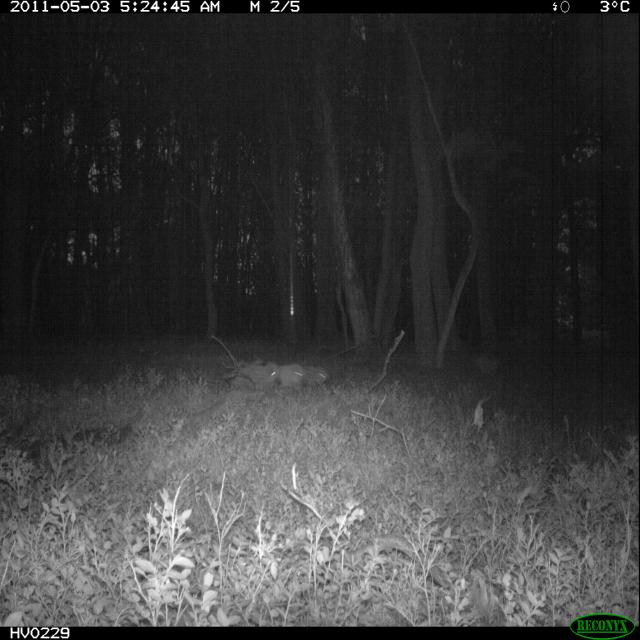boar: (228, 348, 282, 405), (268, 356, 305, 396), (299, 356, 333, 396)
